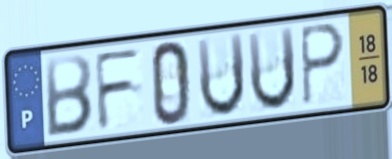0: (149, 38, 192, 128)
B: (44, 51, 95, 140)
F: (91, 44, 145, 134)
P: (297, 21, 347, 110)
U: (244, 22, 298, 115), (193, 29, 247, 121)
